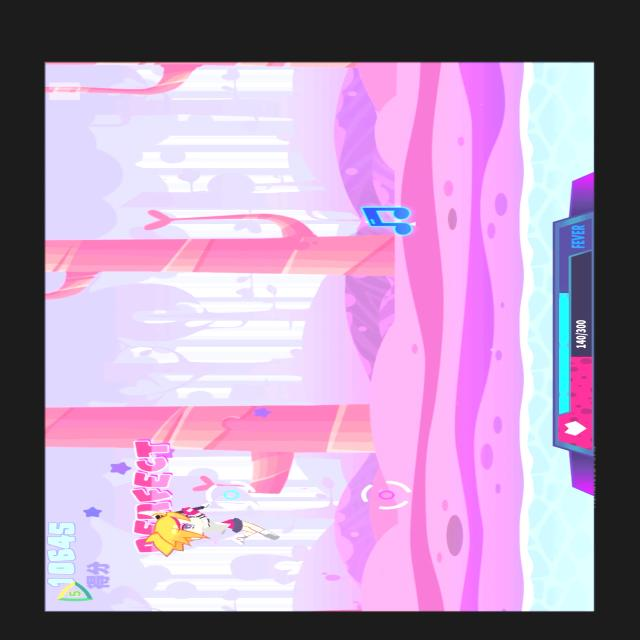Music note: (354, 199, 418, 237)
